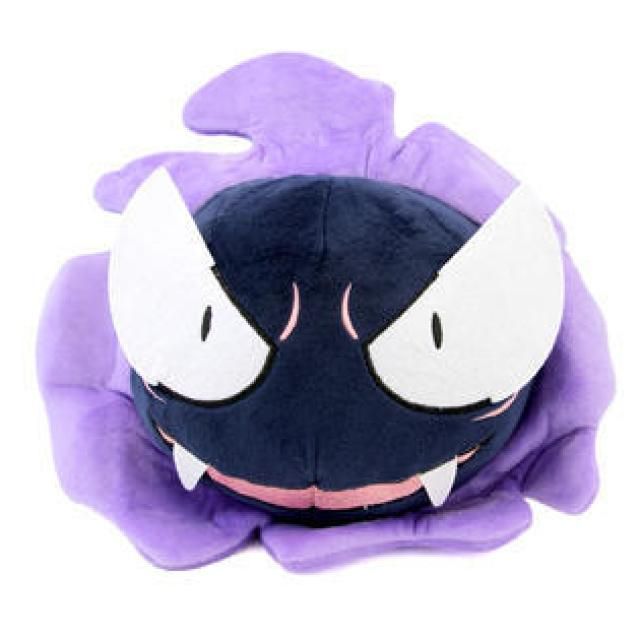Gastly: (31, 50, 610, 568)
